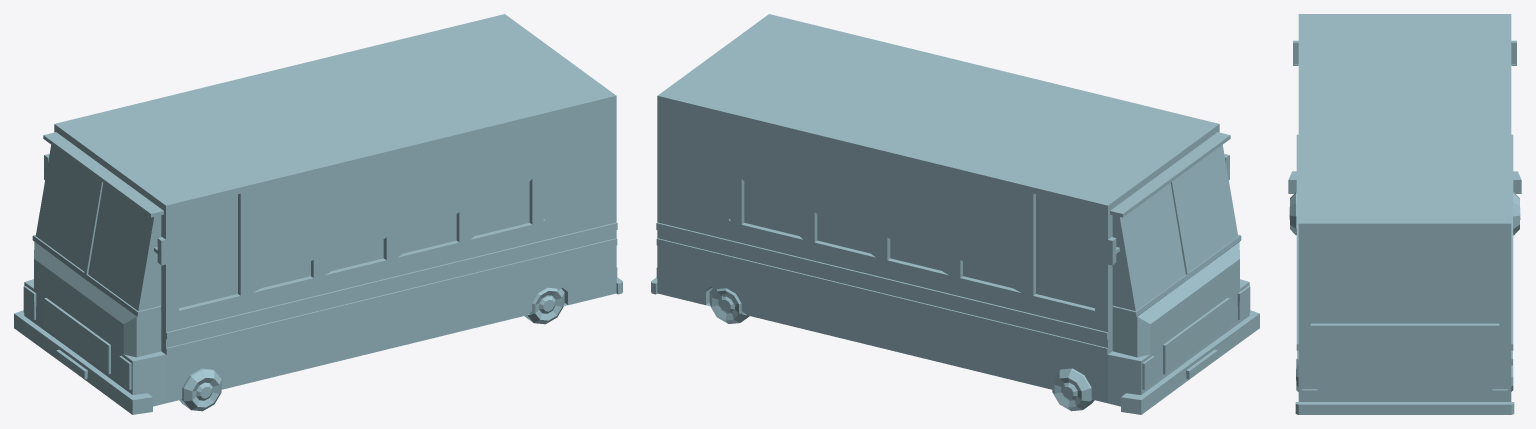
File: cc0-bus-lod1.glb
The picture shows the model from 3 angles, left to right: view 1: azimuth 30°, elevation 25°; view 2: azimuth 150°, elevation 25°; view 3: azimuth 270°, elevation 25°; orthographic projection. The views are drawn at different scales.
Parts seen in each view (by area): view 1: part_0; view 2: part_0; view 3: part_0.
Boxes of the visible parts, x1,y1,x2,y2 form: part_0: [14, 14, 622, 414]; part_0: [651, 14, 1259, 414]; part_0: [1288, 14, 1521, 414].
Size of the model in its own units: 4.09 by 1.68 by 1.74.
